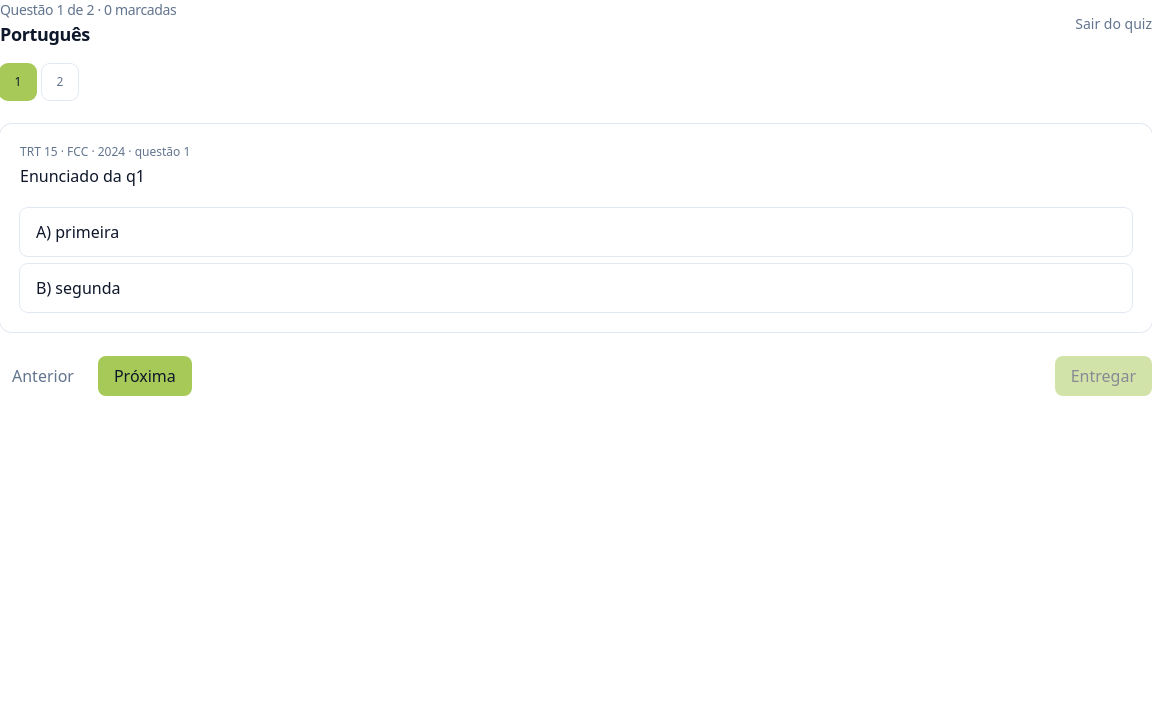
Test case: QuizExecucaoComponent › avisa que a marcação da prova se perde ao sair, porque ela não foi gravada
Click the button "A) primeira". click: (85, 232)
box: x1=20 y1=208 x2=1132 y2=256
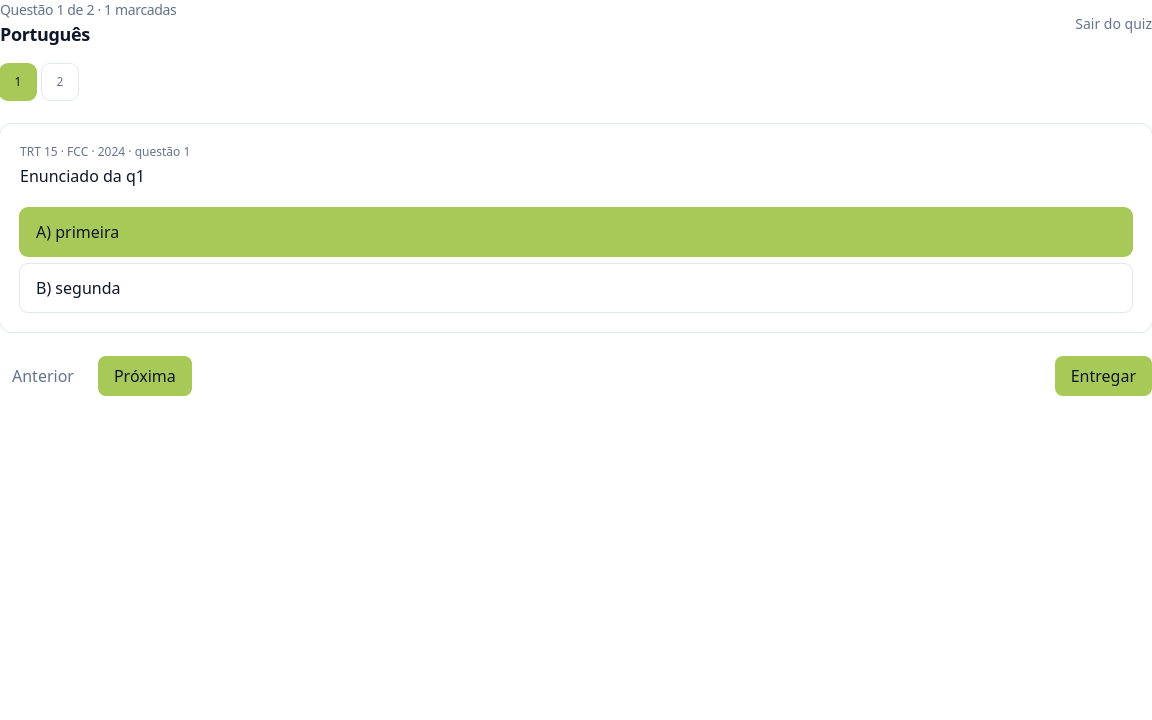
Click the button "Sair do quiz". click: (1114, 24)
box: x1=1075 y1=14 x2=1151 y2=34
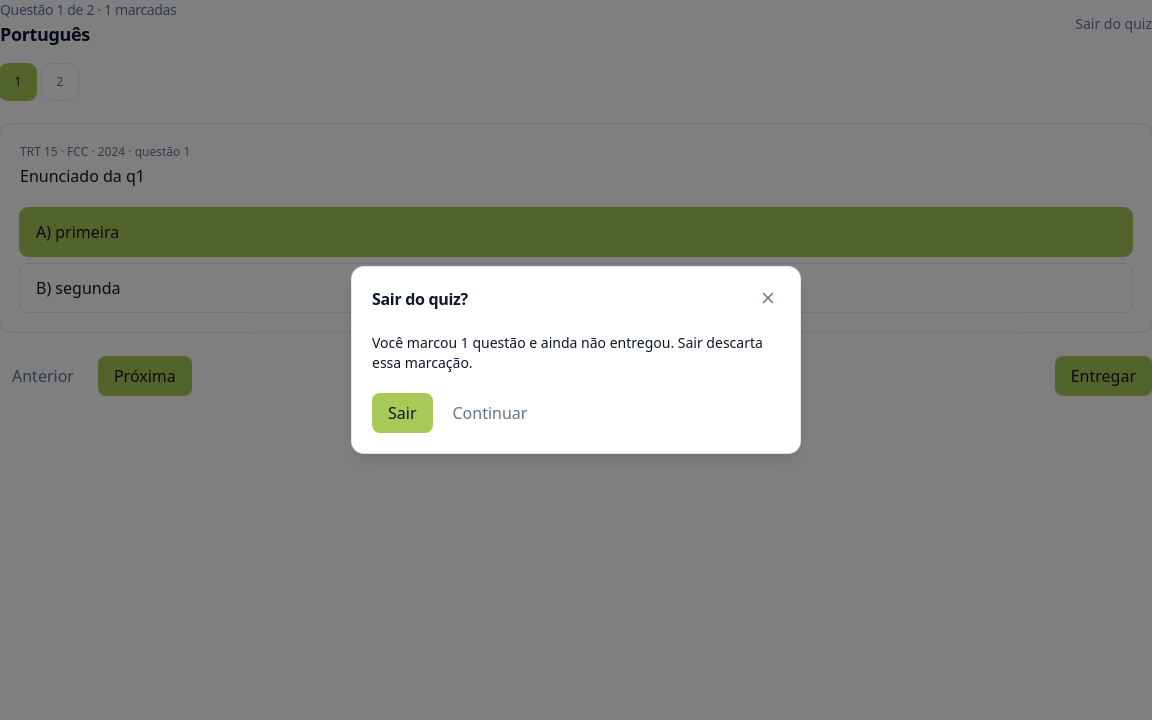
Result: the text "descarta essa marcação" is shown at x1=372 y1=333 x2=763 y2=372
